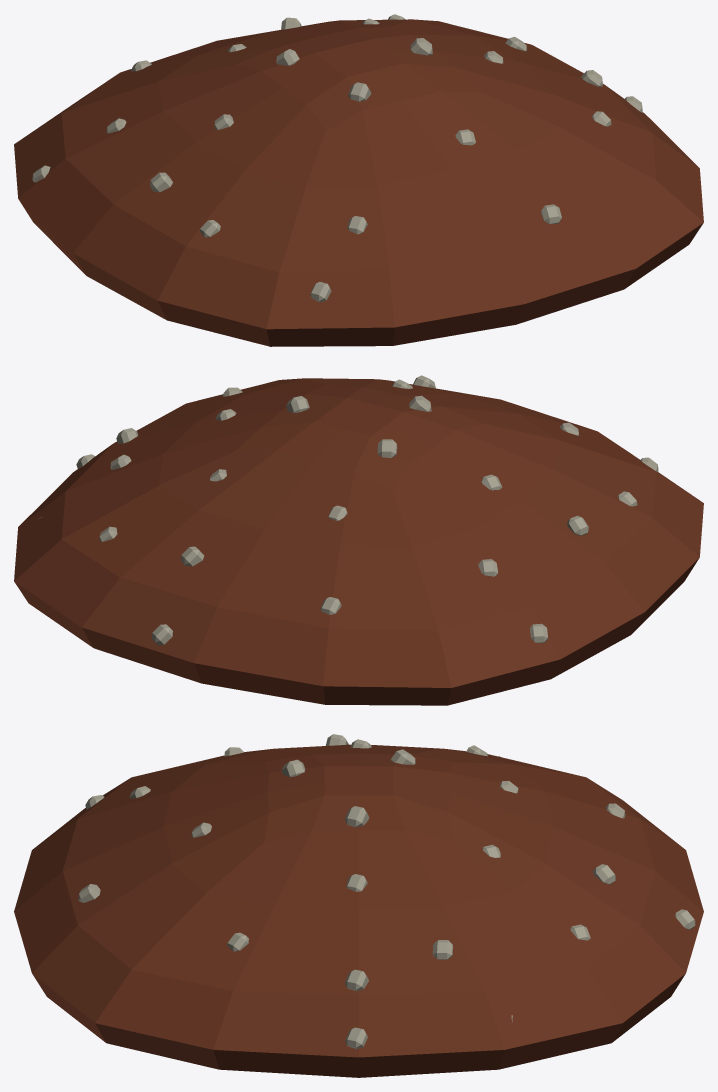
Rendered from Mushroom_Crop.glb.
The picture shows the model from 3 angles, top to bottom: view 1: azimuth 30°, elevation 25°; view 2: azimuth 150°, elevation 25°; view 3: azimuth 270°, elevation 25°; orthographic projection. The views are drawn at different scales.
Visible parts, largest first — view 1: Mushroom_Crop; view 2: Mushroom_Crop; view 3: Mushroom_Crop.
Part boxes in pixels (box(x1,y1,x2,y2)): Mushroom_Crop: box(14, 14, 703, 346); Mushroom_Crop: box(14, 375, 703, 705); Mushroom_Crop: box(14, 734, 703, 1077).
Bounding box in the file's own units: 0.4363 × 0.1185 × 0.4363.
